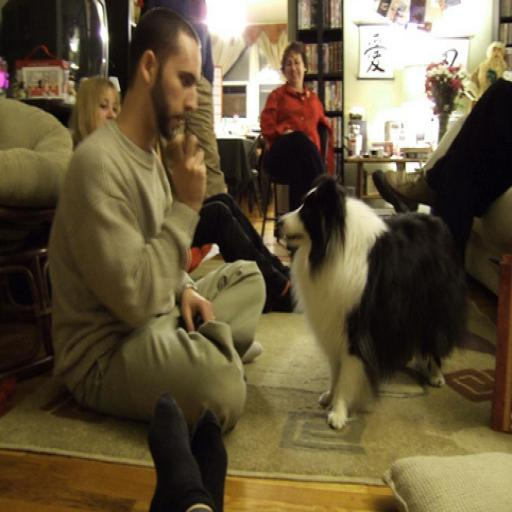dog_face: (276, 177, 345, 262)
